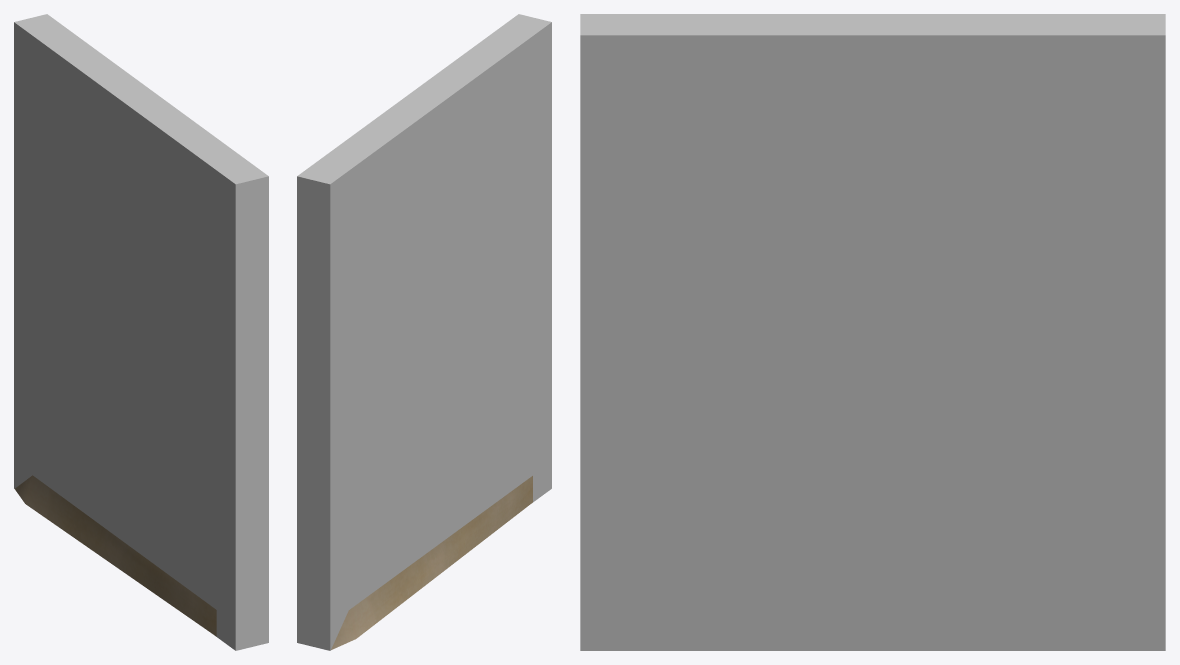
Rendered from SM_DG_InsideWallpaper01D.fbx.
3 views of the same model, side by side, from view 1: azimuth 30°, elevation 25°; view 2: azimuth 150°, elevation 25°; view 3: azimuth 270°, elevation 25° (orthographic). The views are drawn at different scales.
Parts seen in each view (by area): view 1: SM_DG_InsideWallpaper01D_ConvexHulls, SM_DG_InsideWallpaper01D; view 2: SM_DG_InsideWallpaper01D_ConvexHulls, SM_DG_InsideWallpaper01D; view 3: SM_DG_InsideWallpaper01D_ConvexHulls.
Boxes of the visible parts, x1,y1,x2,y2 form: SM_DG_InsideWallpaper01D_ConvexHulls: [14, 14, 268, 650]; SM_DG_InsideWallpaper01D: [15, 475, 216, 636]; SM_DG_InsideWallpaper01D_ConvexHulls: [297, 14, 551, 650]; SM_DG_InsideWallpaper01D: [331, 476, 532, 649]; SM_DG_InsideWallpaper01D_ConvexHulls: [580, 14, 1165, 650].
Size of the model in its own units: 26.75 by 253 by 294.
